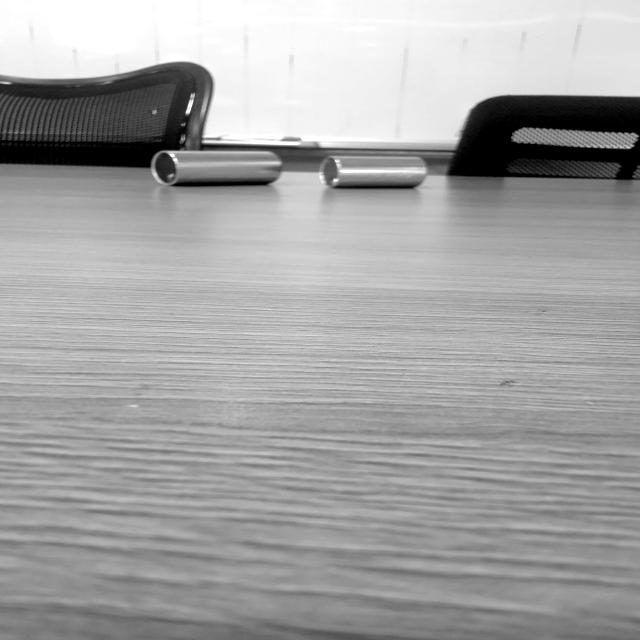Co_Lon: (150, 149, 282, 186)
Co_Nho: (320, 156, 427, 188)
